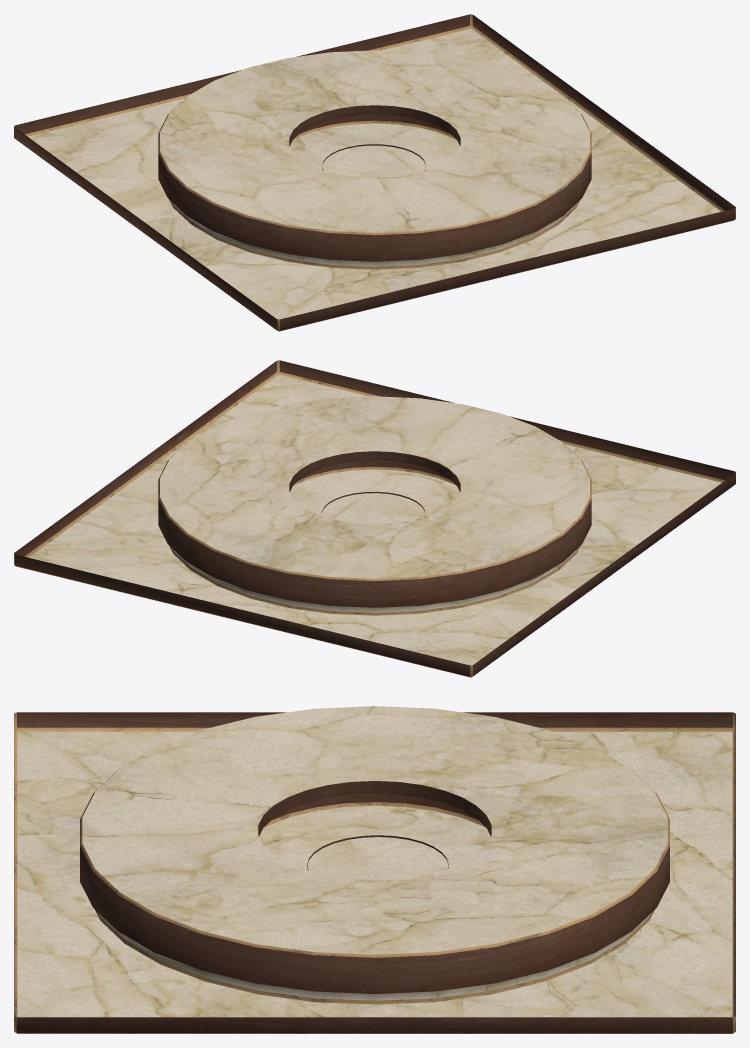
Rendered from Ceiling_Lamp.FBX.
The picture shows the model from 3 angles, top to bottom: view 1: azimuth 30°, elevation 25°; view 2: azimuth 150°, elevation 25°; view 3: azimuth 270°, elevation 25°; orthographic projection. The views are drawn at different scales.
Visible parts, largest first — view 1: Ceiling_Lamp; view 2: Ceiling_Lamp; view 3: Ceiling_Lamp.
Part boxes in pixels (x1,y1,x2,y2): Ceiling_Lamp: (14, 14, 735, 331); Ceiling_Lamp: (14, 360, 735, 677); Ceiling_Lamp: (14, 706, 735, 1033).
Bounding box in the file's own units: 616 × 79.5 × 616.
